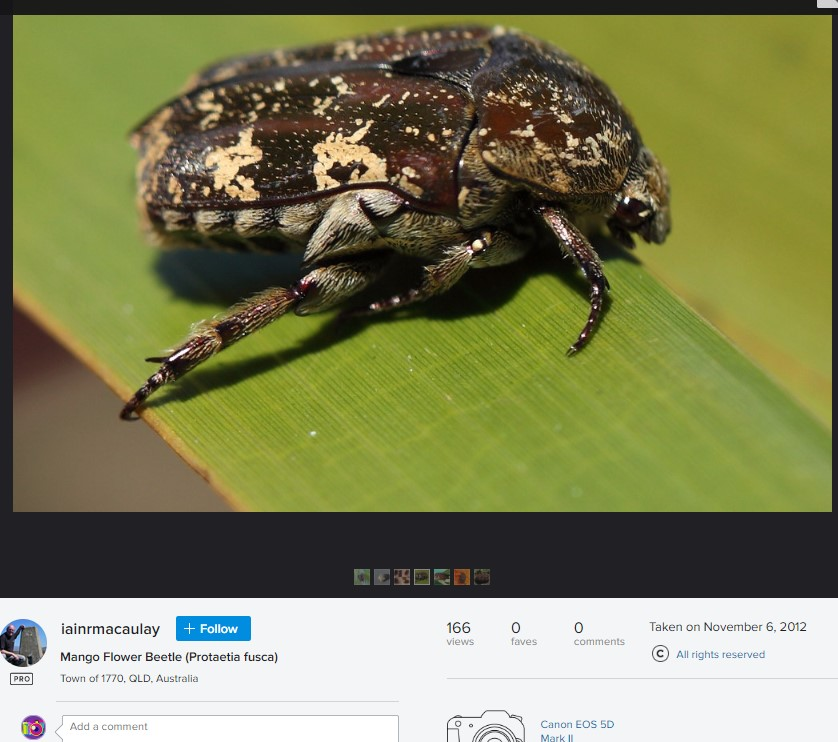Protaetia_fusca: (88, 20, 676, 466)
